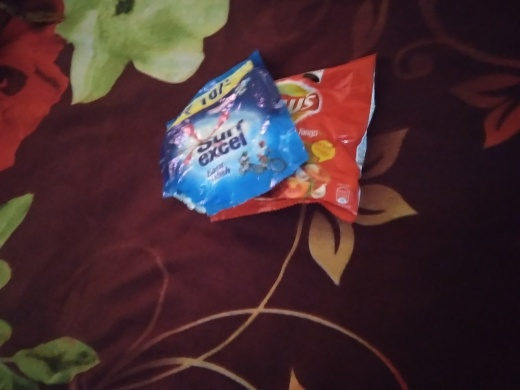lays: (225, 50, 377, 226)
surf: (154, 49, 302, 212)
